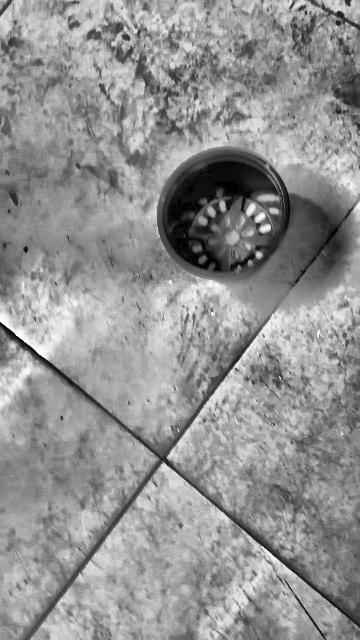pot: (157, 148, 291, 281)
